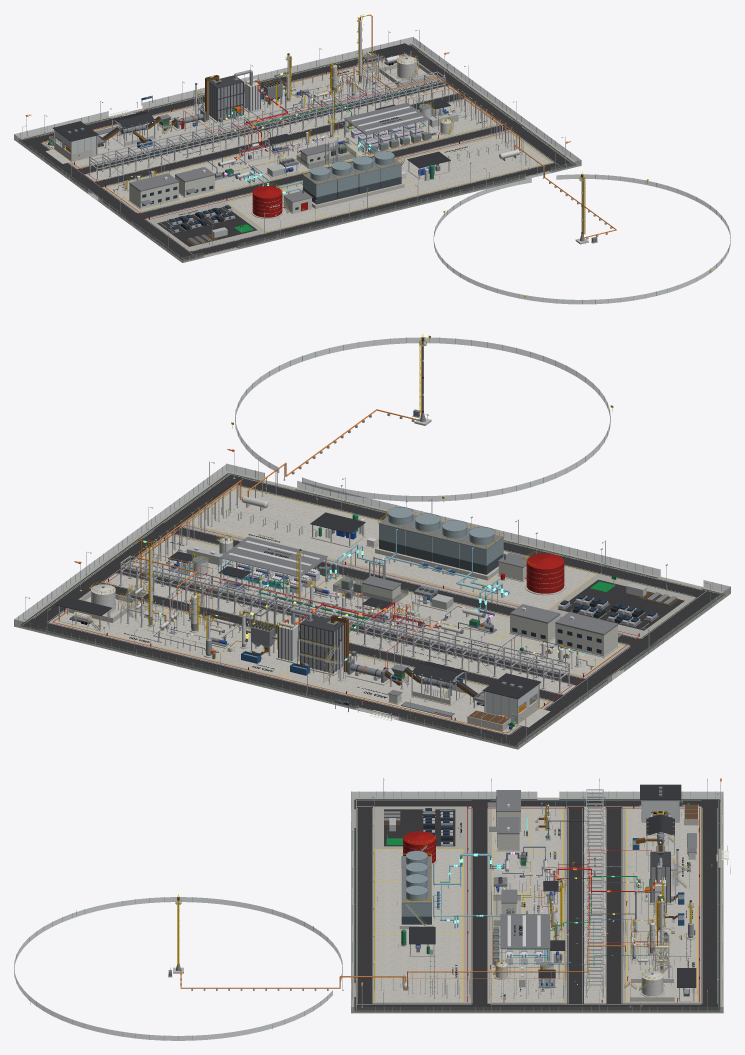
Rendered from plant.glb.
The picture shows the model from 3 angles, top to bottom: view 1: azimuth 30°, elevation 25°; view 2: azimuth 150°, elevation 25°; view 3: azimuth 270°, elevation 25°; orthographic projection. The views are drawn at different scales.
Parts seen in each view (by area): view 1: pelat_area_beton, jalan_aspal, tapak_perkerasan_kerikil, pagar_keliling, PR-001_pipe_rack_3_tingkat, CT-701_geometri, FL-901_geometri, EL-501_geometri, PARK_geometri, marka_tepi_jalan, saluran_tepi_jalan, TIP-100_geometri (+12 smaller); view 2: pelat_area_beton, jalan_aspal, tapak_perkerasan_kerikil, pagar_keliling, PR-001_pipe_rack_3_tingkat, CT-701_geometri, FL-901_geometri, EL-501_geometri, PARK_geometri, marka_tepi_jalan, saluran_tepi_jalan, TIP-100_geometri (+15 smaller); view 3: pelat_area_beton, jalan_aspal, tapak_perkerasan_kerikil, pagar_keliling, FL-901_geometri, EL-501_geometri, marka_tepi_jalan, CT-701_geometri, PR-001_pipe_rack_3_tingkat, PARK_geometri, saluran_tepi_jalan, TIP-100_geometri (+16 smaller).
Part boxes in pixels (<box>): pelat_area_beton: <box>46,56,548,231</box>; jalan_aspal: <box>21,45,573,259</box>; tapak_perkerasan_kerikil: <box>14,42,580,262</box>; pagar_keliling: <box>14,37,581,262</box>; PR-001_pipe_rack_3_tingkat: <box>88,71,446,180</box>; CT-701_geometri: <box>302,151,406,208</box>; FL-901_geometri: <box>433,171,730,304</box>; EL-501_geometri: <box>343,102,433,154</box>; PARK_geometri: <box>157,205,257,246</box>; marka_tepi_jalan: <box>31,51,573,259</box>; saluran_tepi_jalan: <box>19,44,576,260</box>; TIP-100_geometri: <box>45,121,98,163</box>; pelat_area_beton: <box>55,487,623,732</box>; jalan_aspal: <box>23,474,721,745</box>; tapak_perkerasan_kerikil: <box>14,471,729,749</box>; pagar_keliling: <box>14,463,730,749</box>; PR-001_pipe_rack_3_tingkat: <box>119,555,570,692</box>; CT-701_geometri: <box>366,507,504,580</box>; FL-901_geometri: <box>231,333,613,502</box>; EL-501_geometri: <box>219,537,333,598</box>; PARK_geometri: <box>558,576,684,630</box>; marka_tepi_jalan: <box>33,474,719,740</box>; saluran_tepi_jalan: <box>20,473,724,746</box>; TIP-100_geometri: <box>482,673,550,727</box>; pelat_area_beton: <box>376,807,699,1003</box>; jalan_aspal: <box>356,800,718,1010</box>; tapak_perkerasan_kerikil: <box>351,797,723,1013</box>; pagar_keliling: <box>351,791,723,1012</box>; FL-901_geometri: <box>14,893,342,1040</box>; EL-501_geometri: <box>492,914,551,967</box>; marka_tepi_jalan: <box>357,800,728,1004</box>; CT-701_geometri: <box>399,850,441,929</box>; PR-001_pipe_rack_3_tingkat: <box>585,789,604,997</box>; PARK_geometri: <box>384,808,455,846</box>; saluran_tepi_jalan: <box>354,799,720,1011</box>; TIP-100_geometri: <box>640,784,681,822</box>.
Bounding box in the file's own units: 210 × 32.15 × 262.
103 materials, 60 textured.
